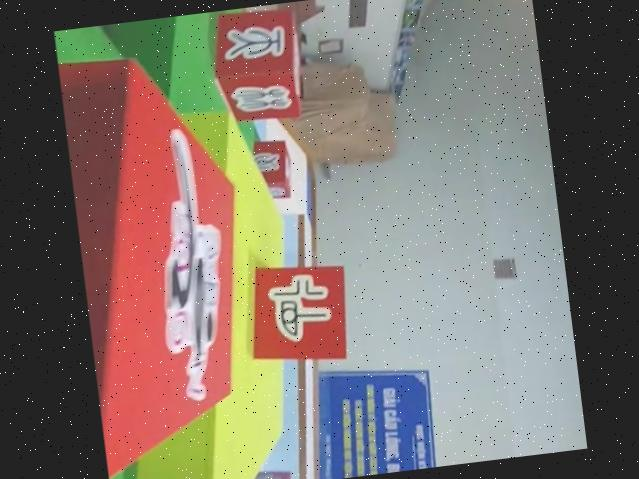R1: (56, 39, 271, 479)
R2 Fake: (205, 3, 310, 129), (245, 135, 296, 203)
R2 Real: (239, 255, 359, 372), (229, 467, 294, 479)
